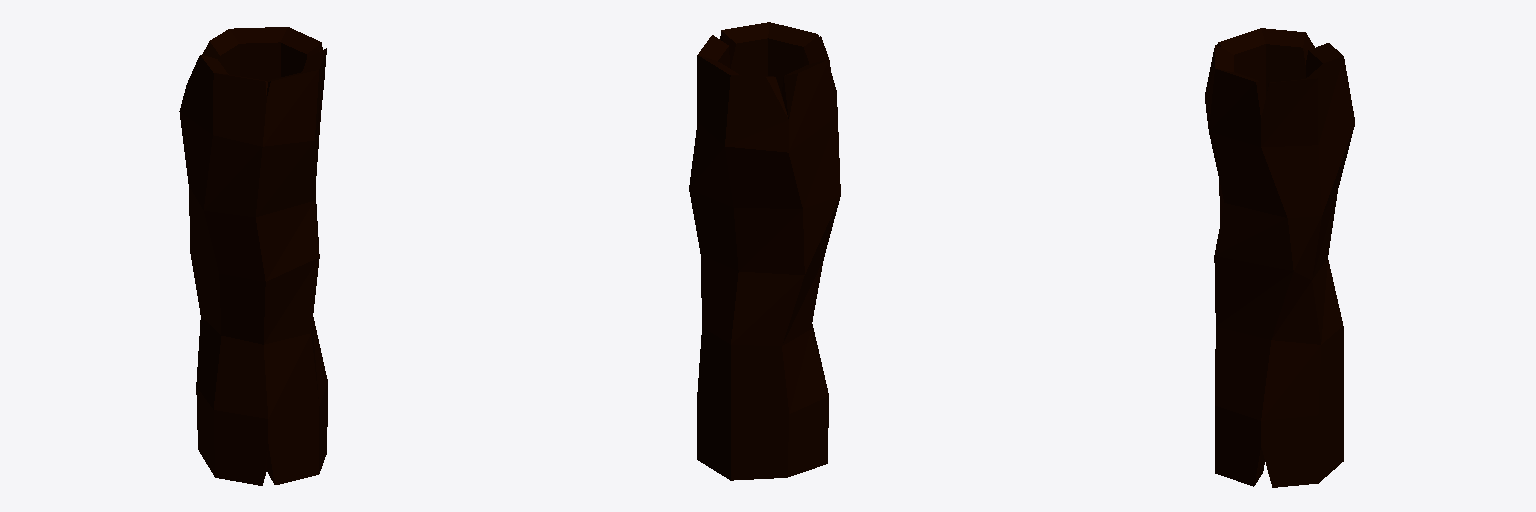
The model's file is tronco_suelo.obj.
The picture shows the model from 3 angles: view 1: azimuth 30°, elevation 25°; view 2: azimuth 150°, elevation 25°; view 3: azimuth 270°, elevation 25°; orthographic projection.
Parts seen in each view (by area): view 1: Wood; view 2: Wood; view 3: Wood.
Boxes of the visible parts, x1,y1,x2,y2 form: Wood: [179, 27, 327, 485]; Wood: [689, 22, 840, 480]; Wood: [1205, 28, 1354, 487].
Bounding box in the file's own units: 2.13 × 6.6 × 2.23.